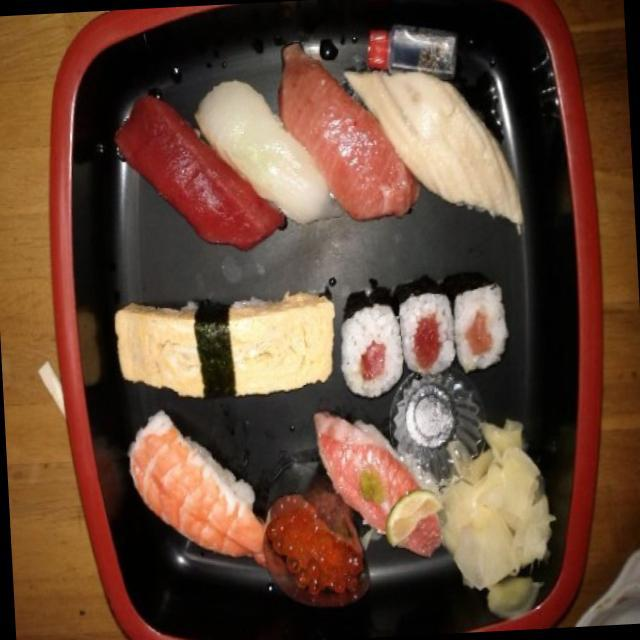Sushi: (111, 64, 550, 596)
